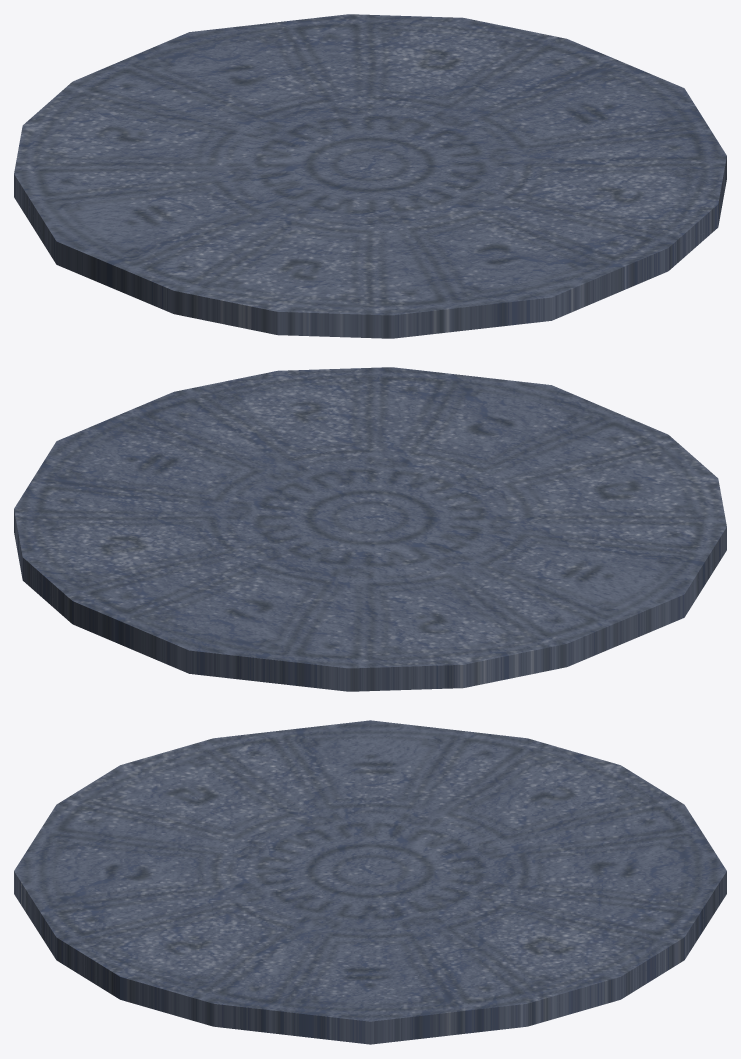
Rendered from Asset_platform_round_x2_01.fbx.
The picture shows the model from 3 angles, top to bottom: view 1: azimuth 30°, elevation 25°; view 2: azimuth 150°, elevation 25°; view 3: azimuth 270°, elevation 25°; orthographic projection.
Visible parts, largest first — view 1: Asset_platform_round_x2_01; view 2: Asset_platform_round_x2_01; view 3: Asset_platform_round_x2_01.
Part boxes in pixels (box(x1,y1,x2,y2)): Asset_platform_round_x2_01: box(14, 14, 726, 338); Asset_platform_round_x2_01: box(14, 367, 726, 691); Asset_platform_round_x2_01: box(14, 720, 726, 1044).
Size of the model in its own units: 8 by 0.2839 by 8.
